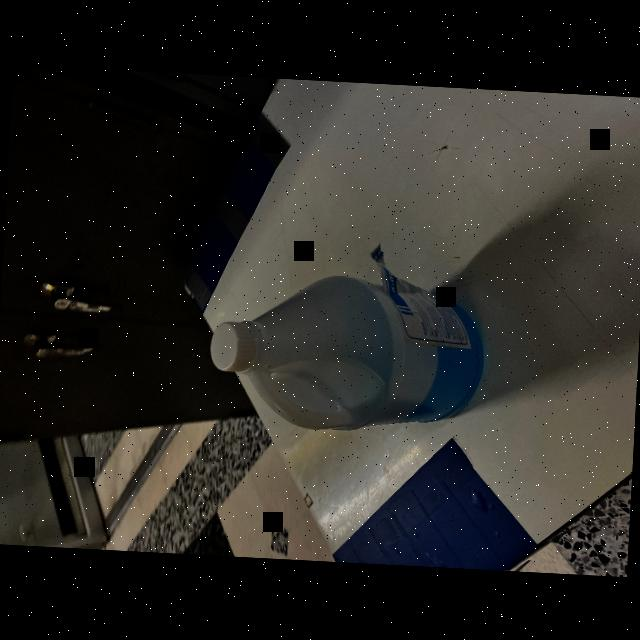chemical_plastic_gallon: (197, 266, 490, 441)
